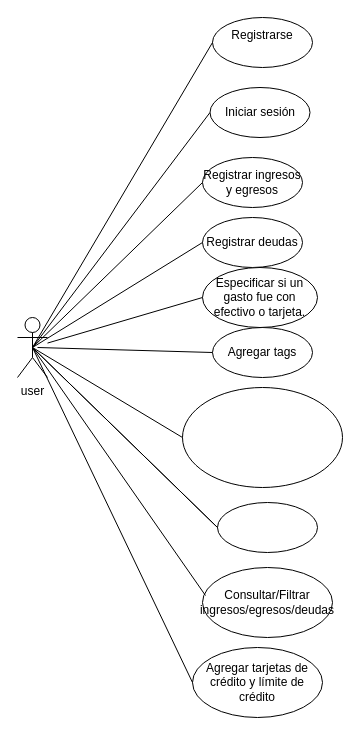
Some shapes in this 360 by 735 pixel diagram are drawn without their labels. Here are the shapes that lost their labels. From the top down, the centre of each, then its label:
[262,437]: Configurar la periodicidad de envío de correos con balance de cuenta y deudas
[267,527]: Consultar gráficas
